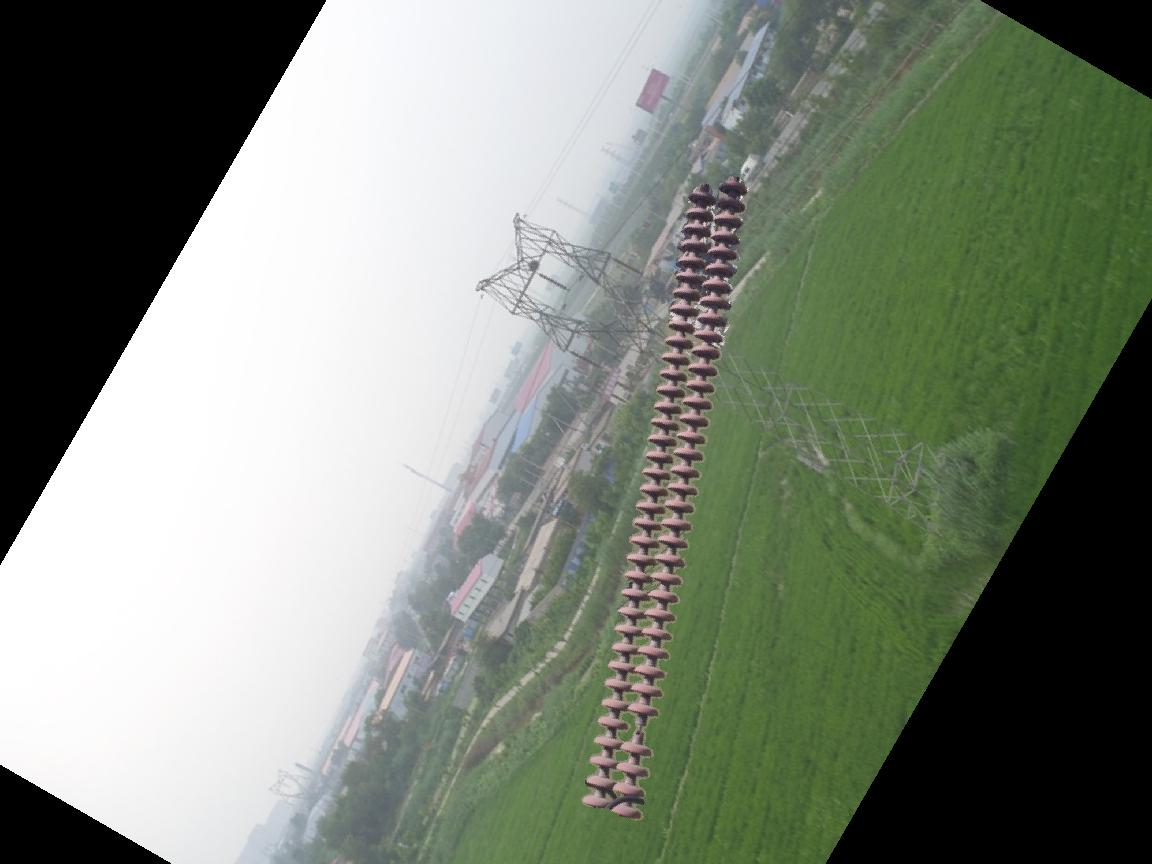insulator: (575, 169, 753, 823)
insulator_stringdrop: (616, 698, 662, 763)
